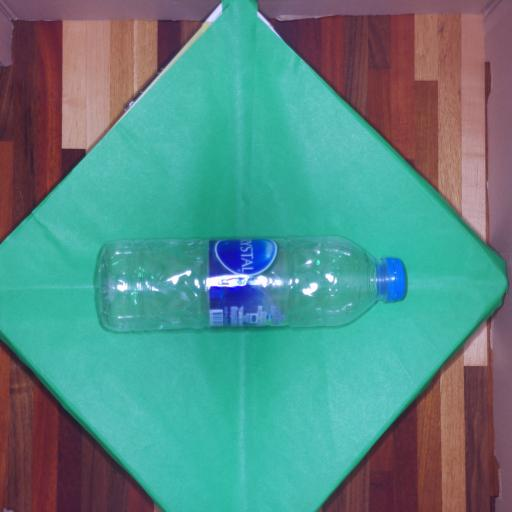bottle: (73, 215, 420, 346)
